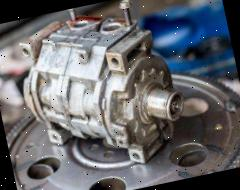electronic: (8, 0, 213, 181)
